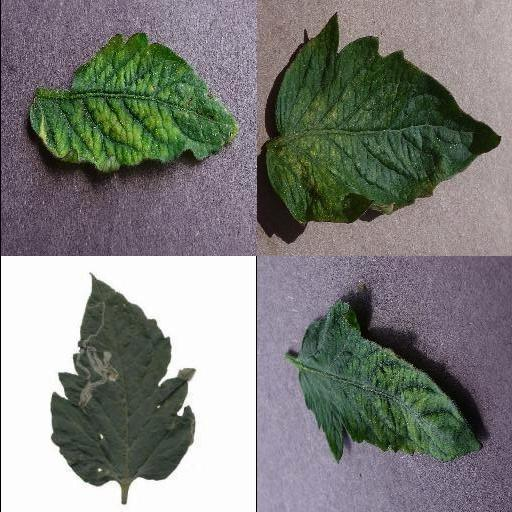Leaf Miner: (50, 273, 197, 487)
Mosaic Virus: (23, 30, 245, 172), (298, 302, 484, 466)
Spider Mites: (266, 11, 502, 229)
